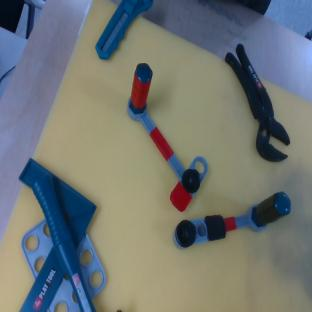non_pass: (168, 190, 295, 250)
pass: (102, 60, 222, 214)
